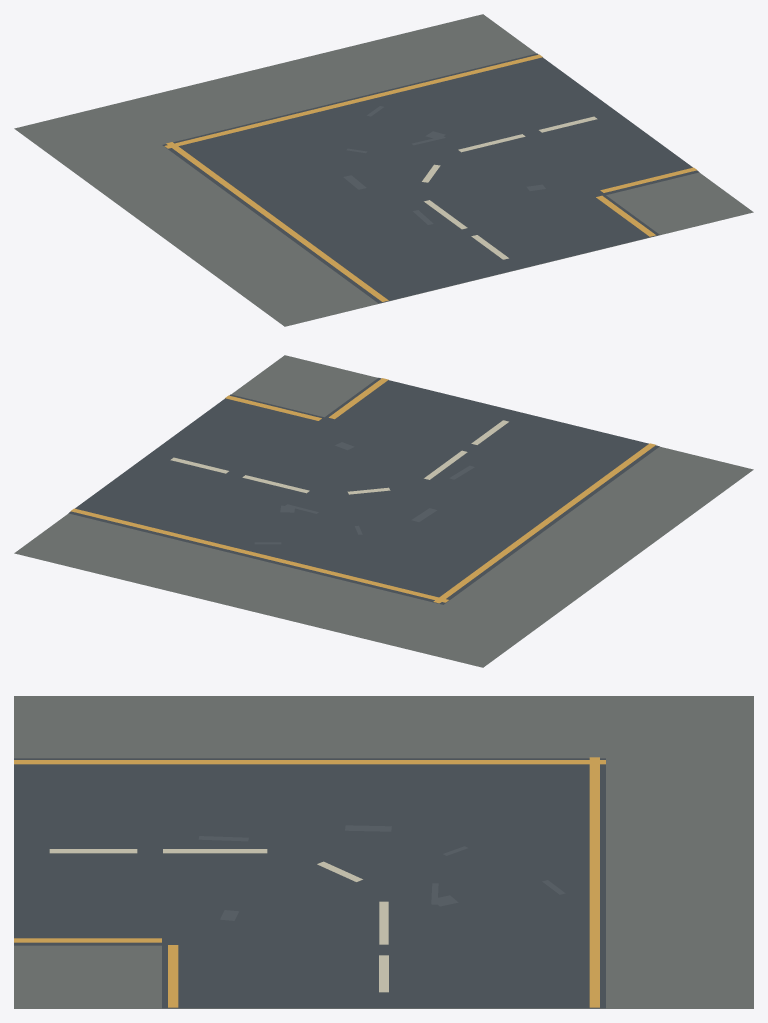
Rendered from 05_Asphalt_Corner.fbx.
3 views of the same model, one above another, from view 1: azimuth 30°, elevation 25°; view 2: azimuth 150°, elevation 25°; view 3: azimuth 270°, elevation 25° (orthographic). The views are drawn at different scales.
Visible parts, largest first — view 1: 05_Asphalt_Corner; view 2: 05_Asphalt_Corner; view 3: 05_Asphalt_Corner.
Boxes of the visible parts, x1,y1,x2,y2 form: 05_Asphalt_Corner: [14, 14, 753, 326]; 05_Asphalt_Corner: [14, 355, 753, 667]; 05_Asphalt_Corner: [14, 696, 753, 1008].
Size of the model in its own units: 800 by 1.6 by 800.
1 material, 1 textured.
